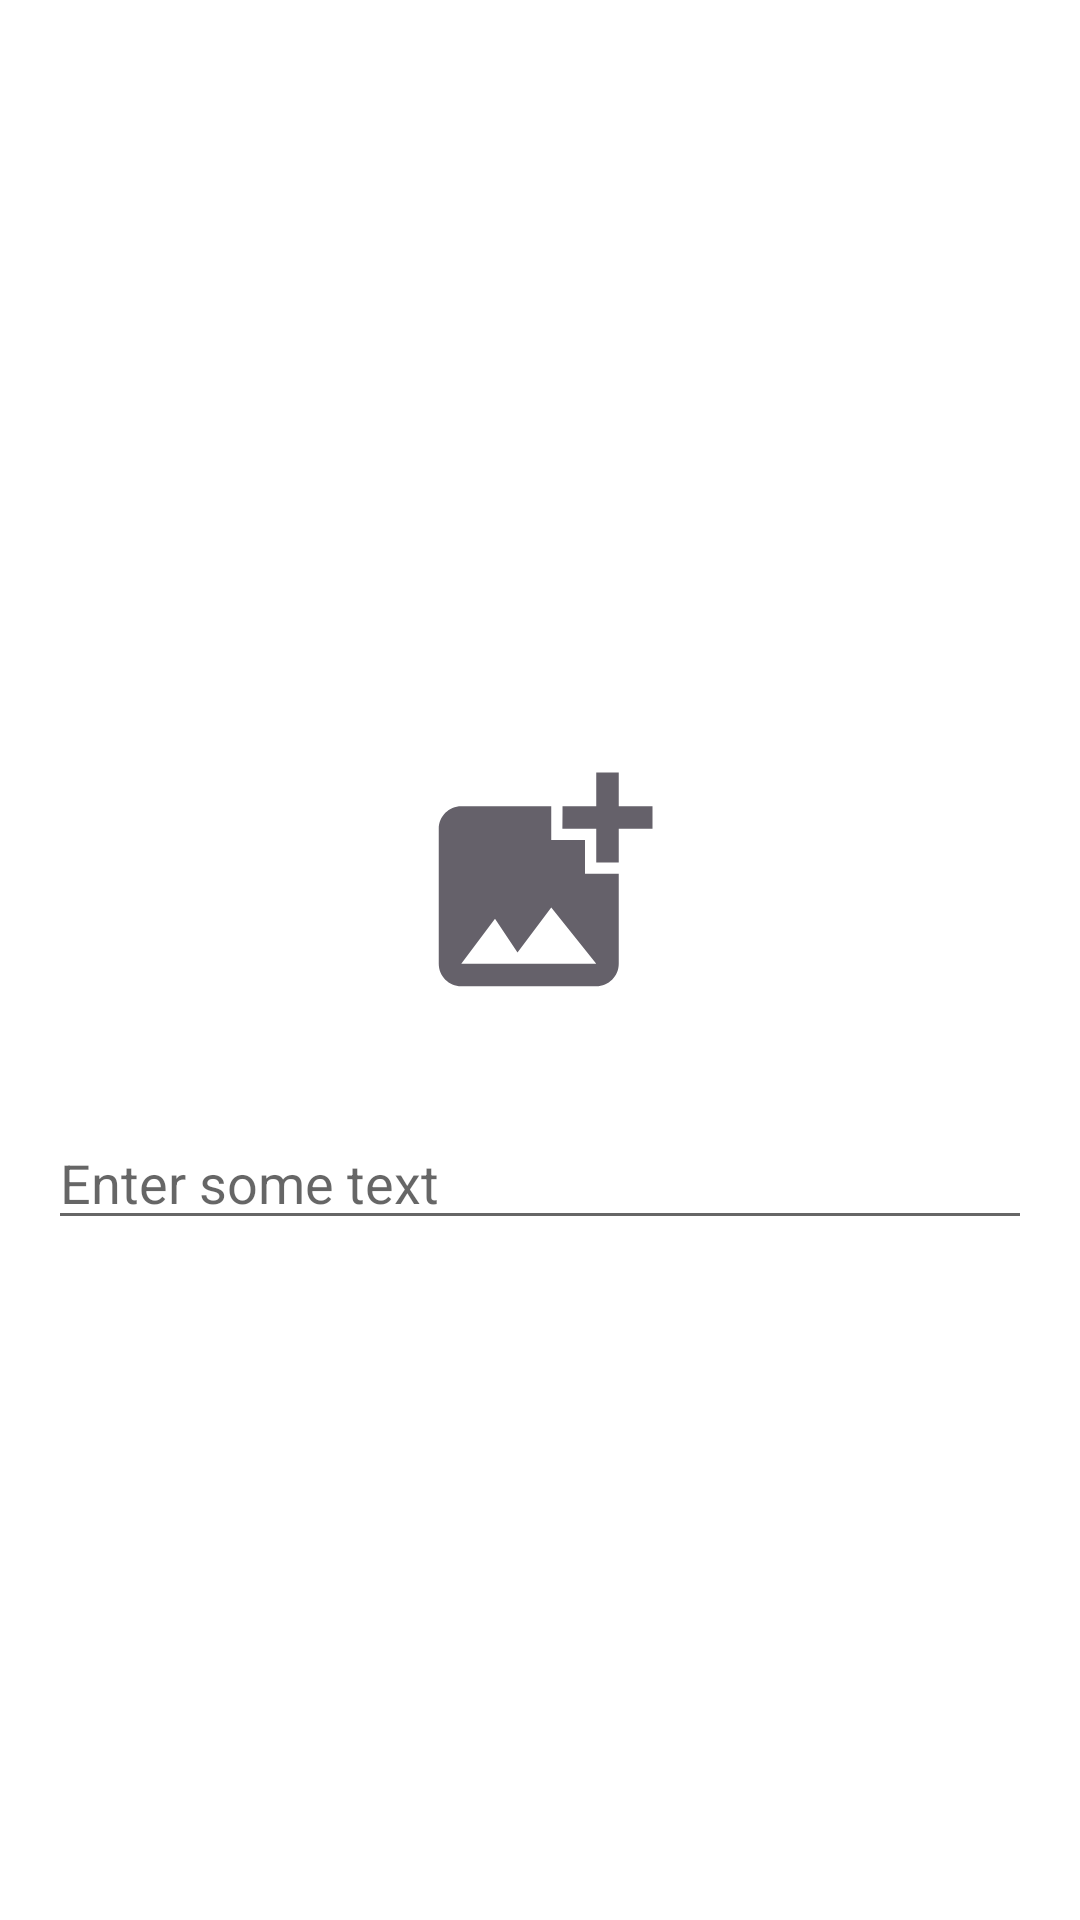

Icons on this 1080 x 1920 Android screen, each with its box as (x1, y1, x2, y2):
add photo alternate: (438, 772, 653, 987)
